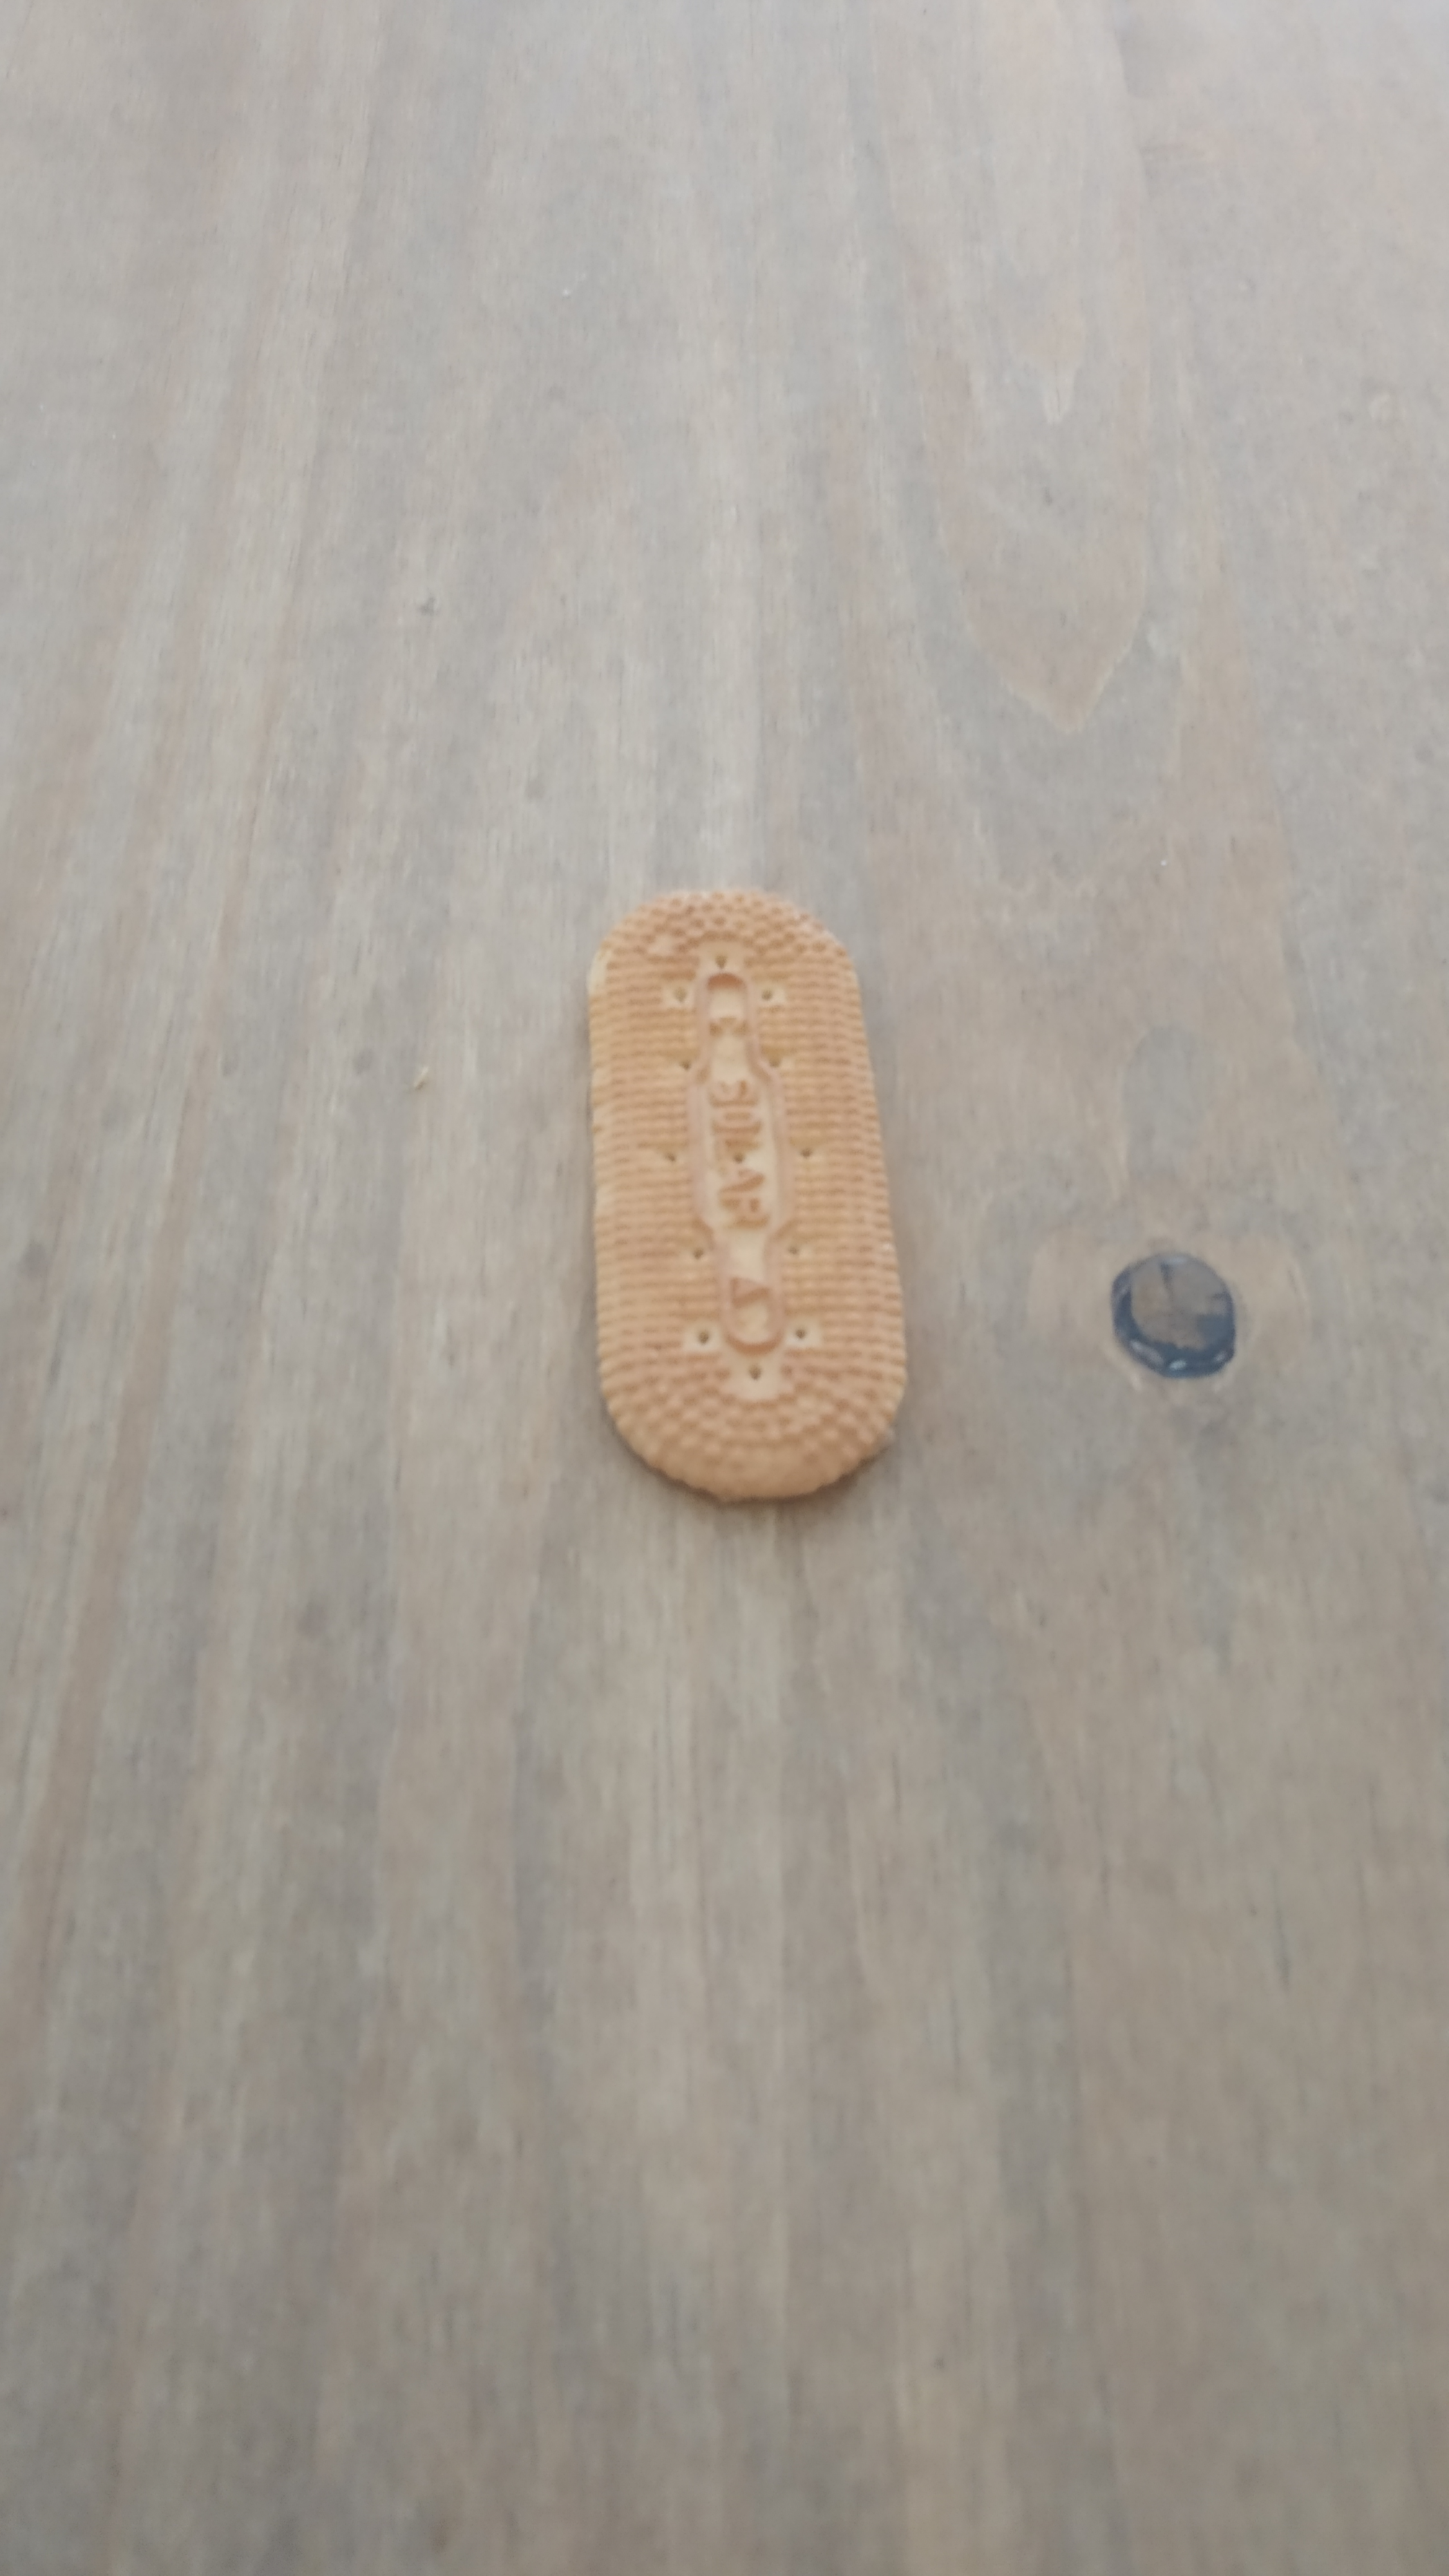solar: (582, 886, 909, 1502)
